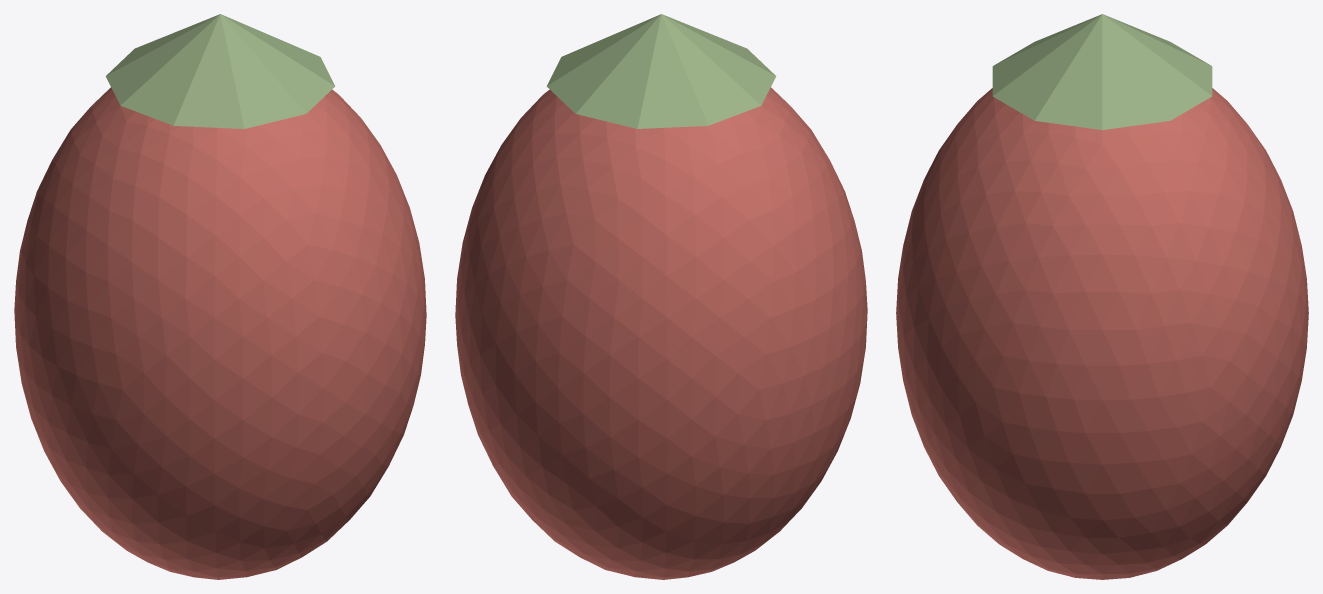
Rendered from strawberry.glb.
3 renders of one model, left to right at view 1: azimuth 30°, elevation 25°; view 2: azimuth 150°, elevation 25°; view 3: azimuth 270°, elevation 25°, orthographic.
Visible parts, largest first — view 1: world; view 2: world; view 3: world.
Boxes of the visible parts, bbox=[...] form: world: bbox=[14, 14, 426, 579]; world: bbox=[455, 14, 867, 579]; world: bbox=[896, 14, 1308, 579].
Bounding box in the file's own units: 1 × 1.48 × 1.
